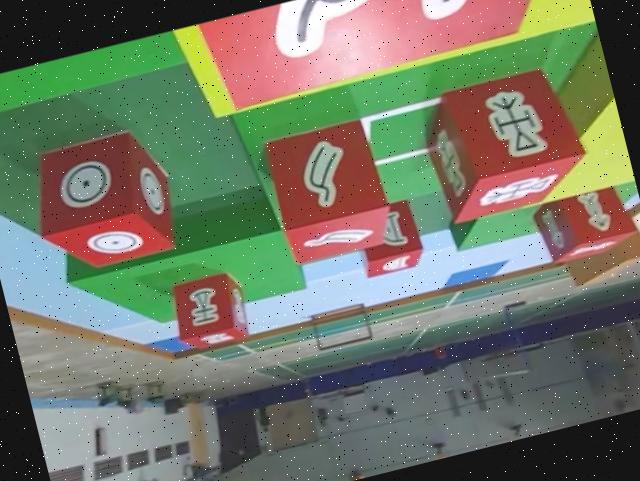R2 Real: (191, 0, 596, 121), (412, 61, 598, 230), (17, 118, 190, 286), (261, 113, 402, 270), (528, 180, 640, 270), (163, 265, 255, 358), (350, 194, 431, 282)
